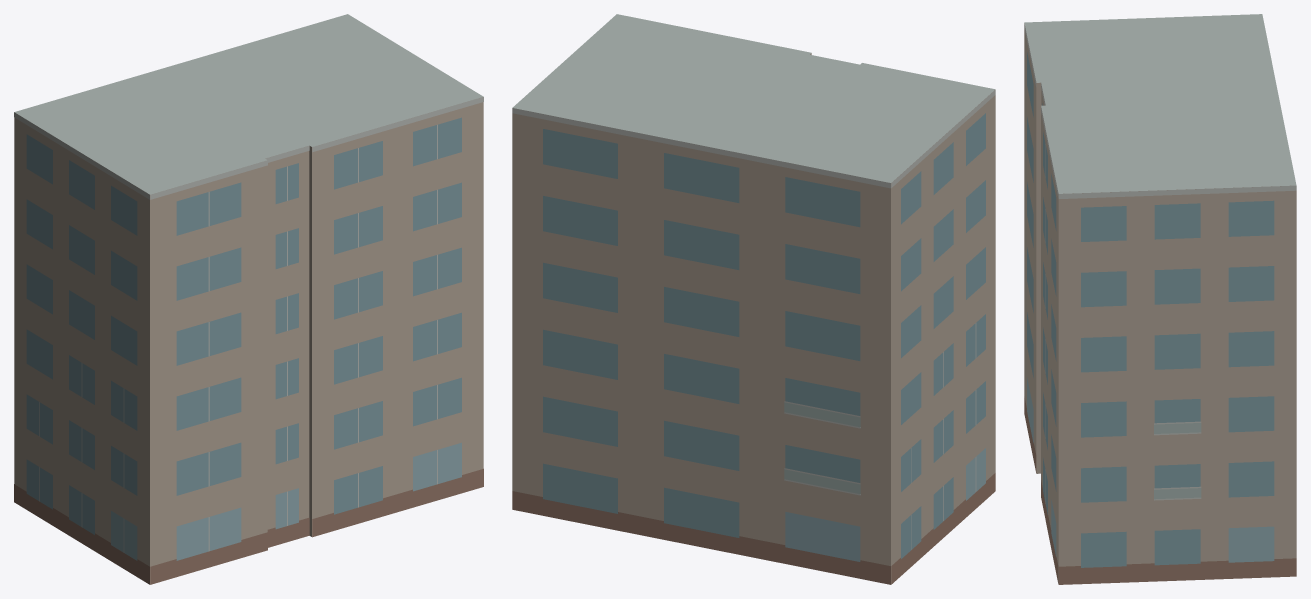
The model's file is survey-upis-32759645.glb.
The picture shows the model from 3 angles, left to right: view 1: azimuth 30°, elevation 25°; view 2: azimuth 150°, elevation 25°; view 3: azimuth 270°, elevation 25°; orthographic projection. The views are drawn at different scales.
Parts seen in each view (by area): view 1: survey-upis-32759645.tmp; view 2: survey-upis-32759645.tmp; view 3: survey-upis-32759645.tmp.
Boxes of the visible parts, bbox=[...] form: survey-upis-32759645.tmp: bbox=[14, 14, 483, 584]; survey-upis-32759645.tmp: bbox=[512, 14, 995, 584]; survey-upis-32759645.tmp: bbox=[1024, 14, 1296, 584].
Size of the model in its own units: 18.07 by 18.3 by 11.56.
